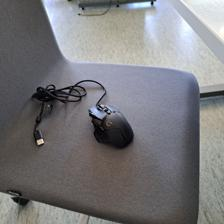mouse: (88, 104, 134, 150)
